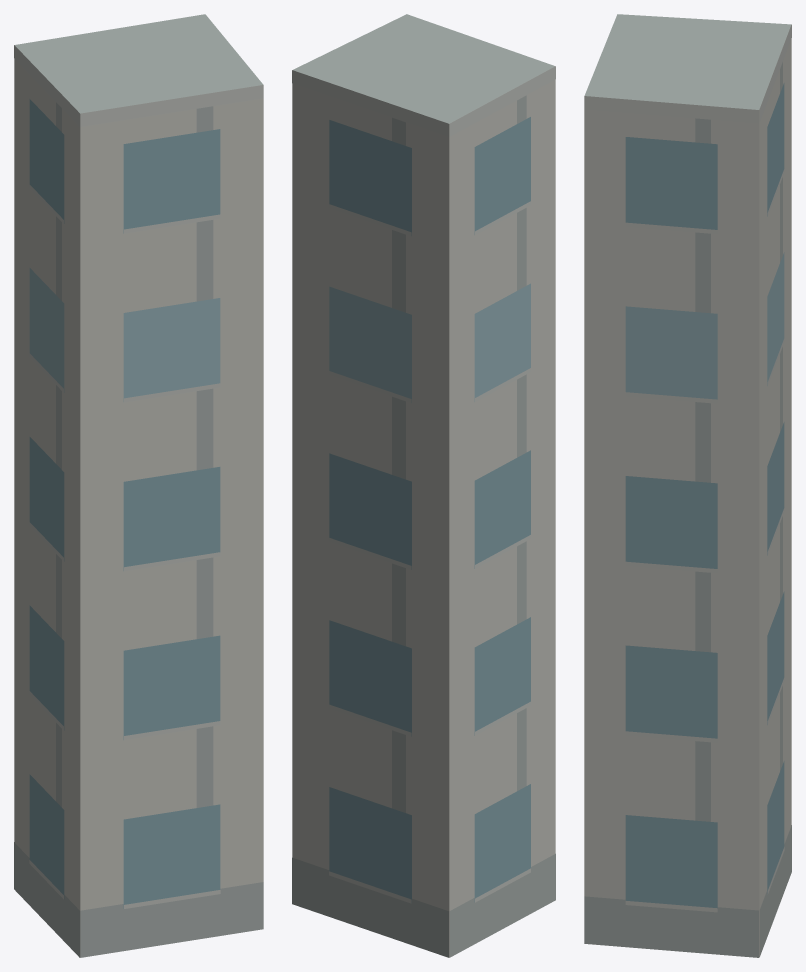
The model's file is survey-upis-32944228.glb.
3 renders of one model, left to right at view 1: azimuth 30°, elevation 25°; view 2: azimuth 150°, elevation 25°; view 3: azimuth 270°, elevation 25°, orthographic.
Visible parts, largest first — view 1: survey-upis-32944228.tmp; view 2: survey-upis-32944228.tmp; view 3: survey-upis-32944228.tmp.
Part boxes in pixels (left/top/right/bottom): survey-upis-32944228.tmp: left=14, top=14, right=263, bottom=957; survey-upis-32944228.tmp: left=292, top=14, right=555, bottom=957; survey-upis-32944228.tmp: left=584, top=14, right=791, bottom=957.
Bounding box in the file's own units: 3.71 × 15.25 × 3.39.
